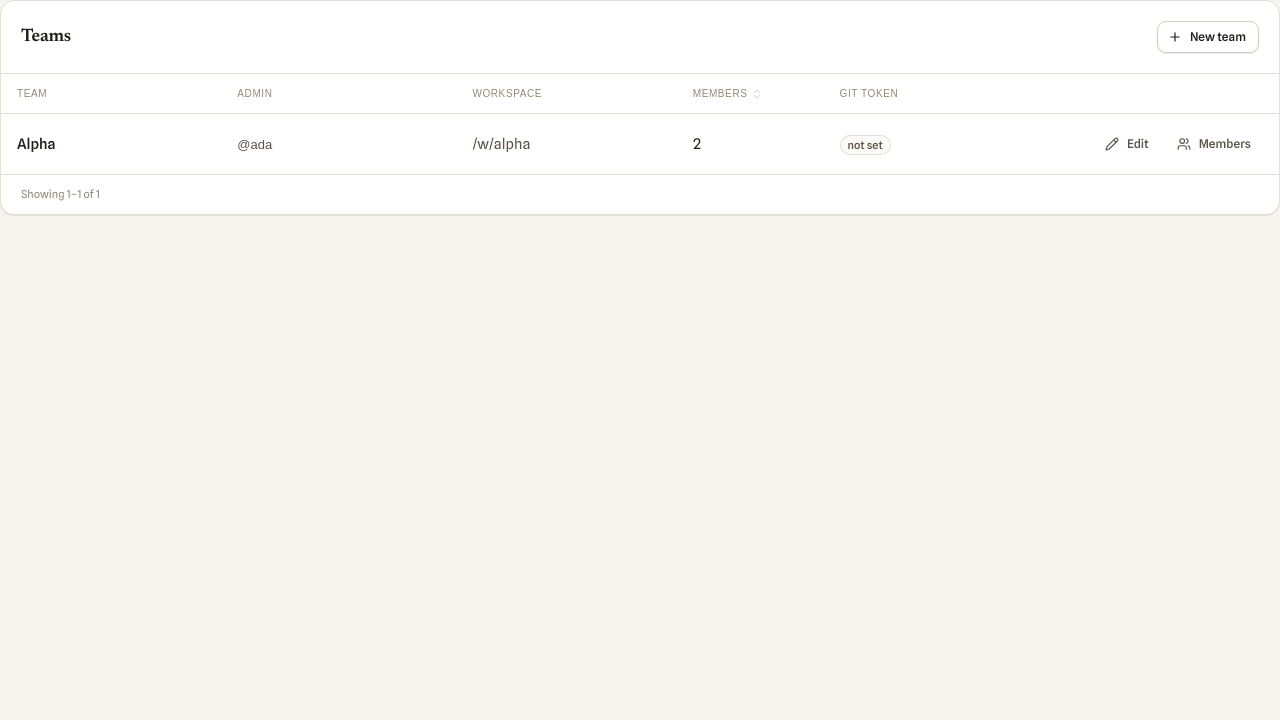
Scenario: TeamsPanel › lists teams (with their admin) and shows the create form on New team
expect the text "Alpha" is shown: met, box x1=17 y1=135 x2=56 y2=152
expect the text "@ada" is shown: met, box x1=237 y1=137 x2=272 y2=152
Click the button "New team": [1208, 37] box x1=1157 y1=21 x2=1259 y2=53
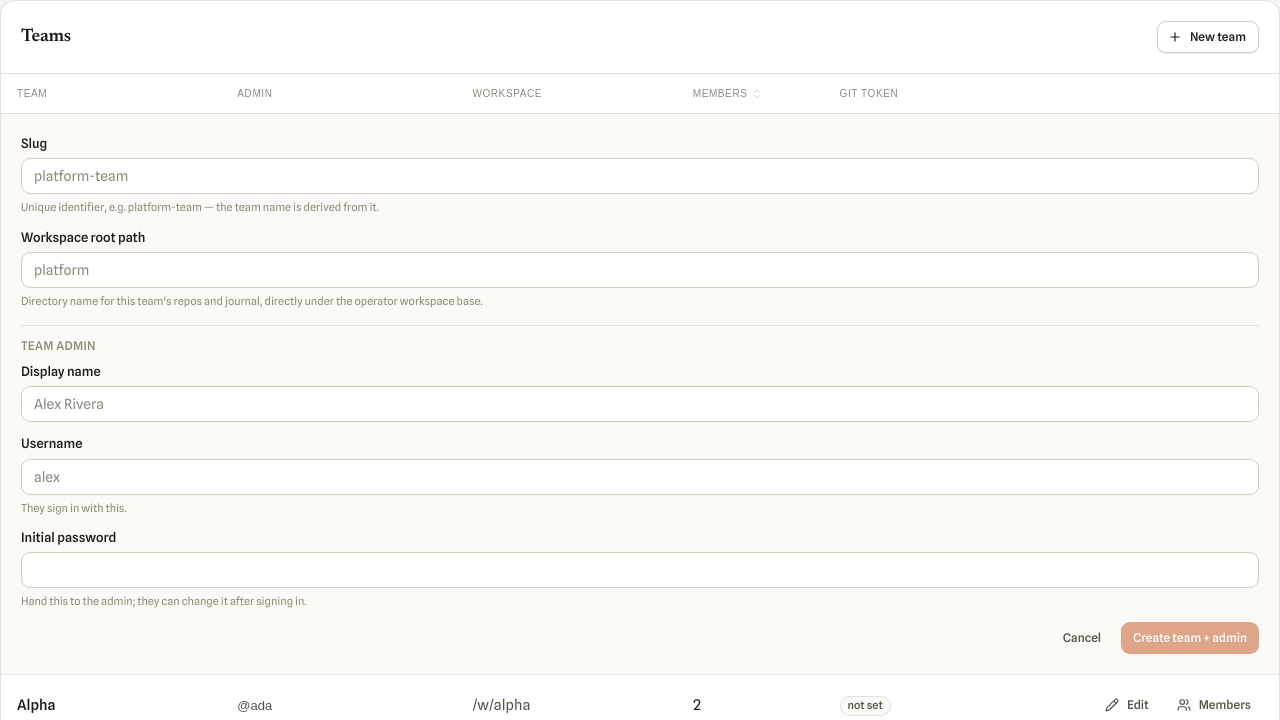
expect the field labelled "Slug" is shown: met, box x1=21 y1=158 x2=1259 y2=194
expect the field labelled "Username" is shown: met, box x1=21 y1=458 x2=1259 y2=494
expect the password field labelled "Initial password" is shown: met, box x1=21 y1=552 x2=1259 y2=588
